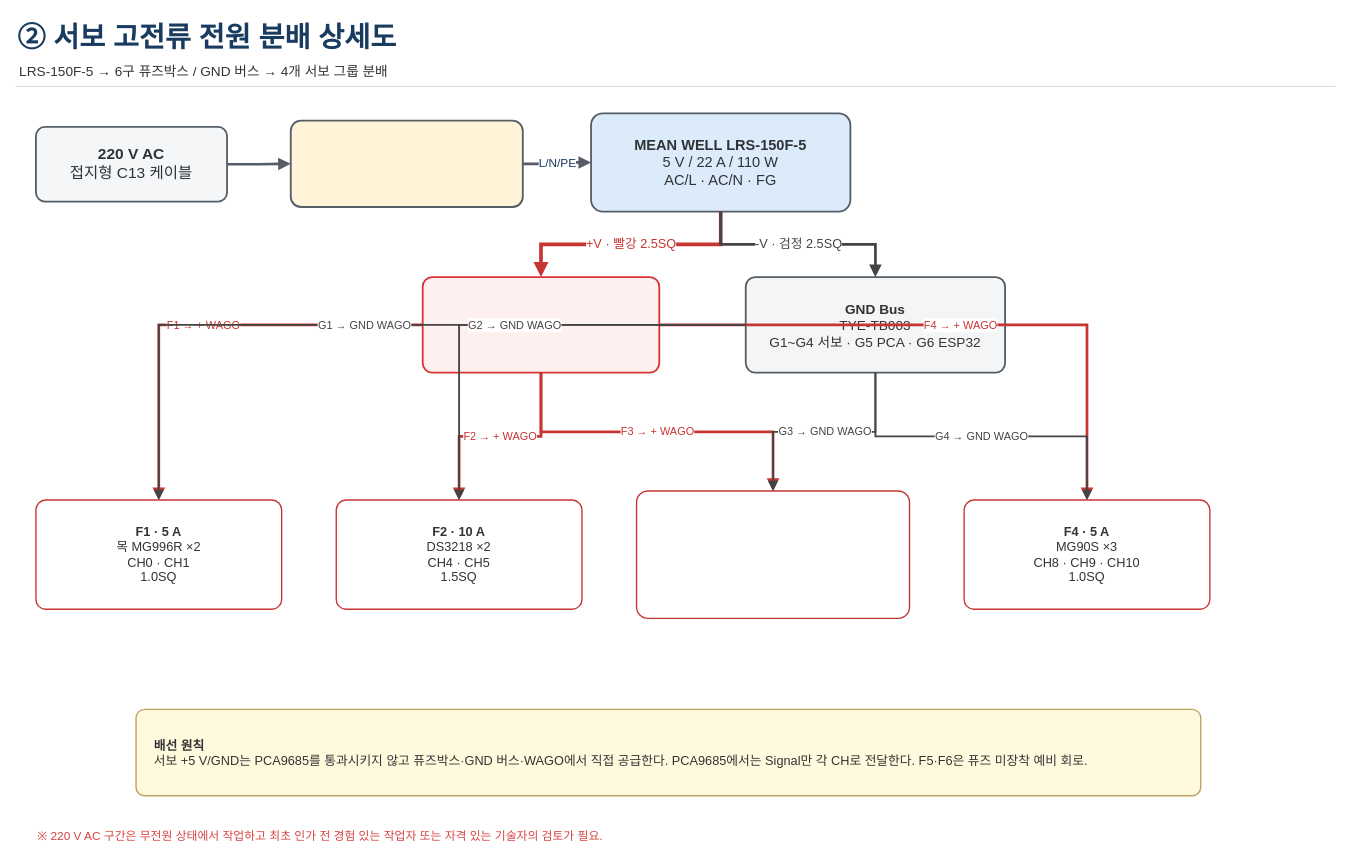
This 1351x864 diagram has some shape labels left out. Here are the shapes that lost their labels. From the top down, the box of each, then its label:
(289, 119, 523, 207): 0717-2SCQ IEC C14 + DPST 2중 Fuse Holder
(421, 276, 660, 373): +5 V Fuse Box 6구 ATO/ATC F1~F4 사용 · F5/F6 예비
(635, 490, 910, 619): F3 · 5 A 팔 MG996R ×2 CH6 `SERVO_MG996R_03` CH7 `SERVO_MG996R_04` 1.0SQ
